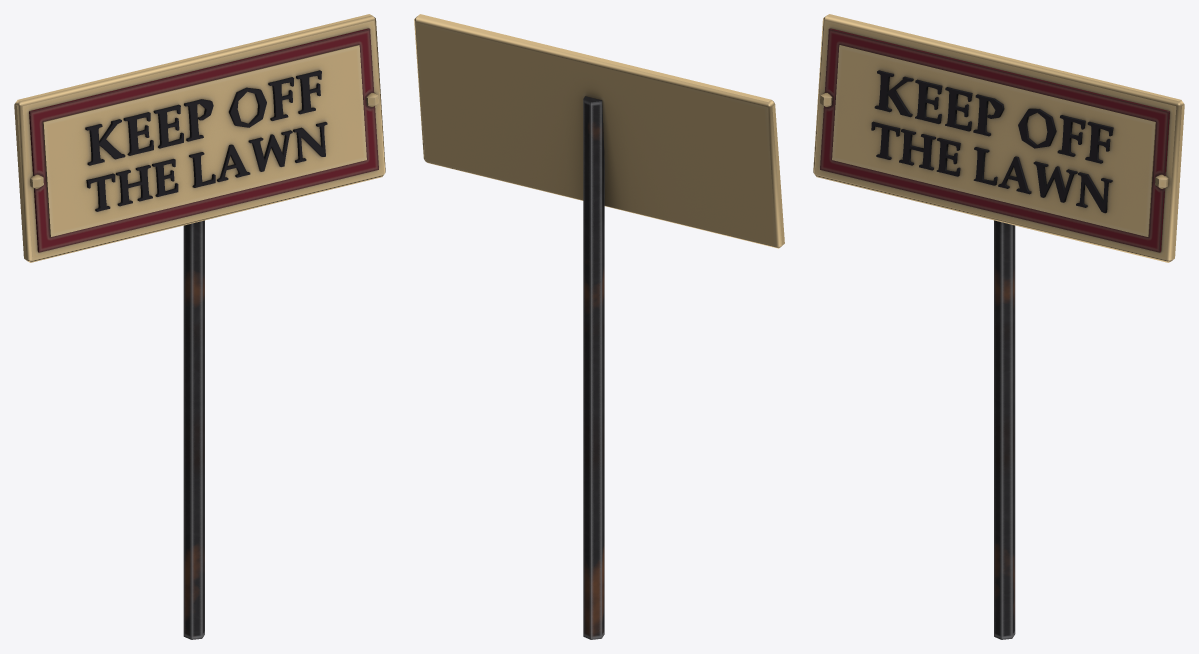
The model's file is KeepOffGrassSign.fbx.
The picture shows the model from 3 angles, left to right: view 1: azimuth 30°, elevation 25°; view 2: azimuth 150°, elevation 25°; view 3: azimuth 330°, elevation 25°; orthographic projection.
Visible parts, largest first — view 1: KeepOffGrassSign; view 2: KeepOffGrassSign; view 3: KeepOffGrassSign.
Boxes of the visible parts, x1,y1,x2,y2 form: KeepOffGrassSign: [14, 14, 385, 639]; KeepOffGrassSign: [414, 14, 784, 639]; KeepOffGrassSign: [813, 14, 1184, 639].
Size of the model in its own units: 150 by 231 by 15.
